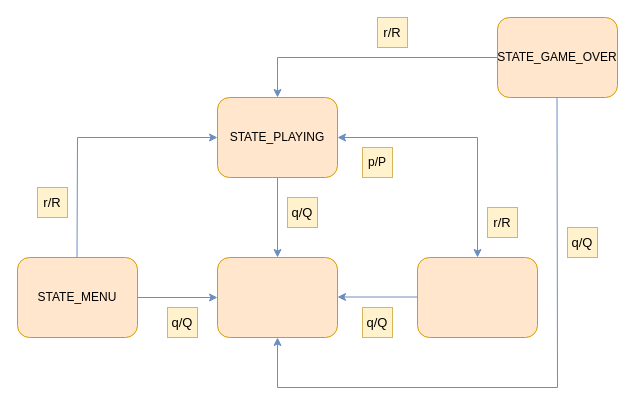
Some shapes in this 635 by 413 pixel diagram are drawn without their labels. The centre of each missing label's shape, as x and y in pixels:
"STATE_EXIT" belongs at pixel 277 297.
"STATE_PAUSE" belongs at pixel 477 297.
